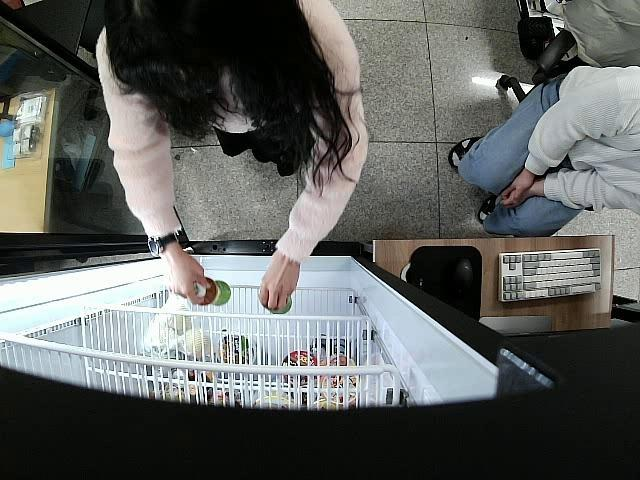19_17cha: (254, 287, 295, 319), (193, 277, 234, 305)
